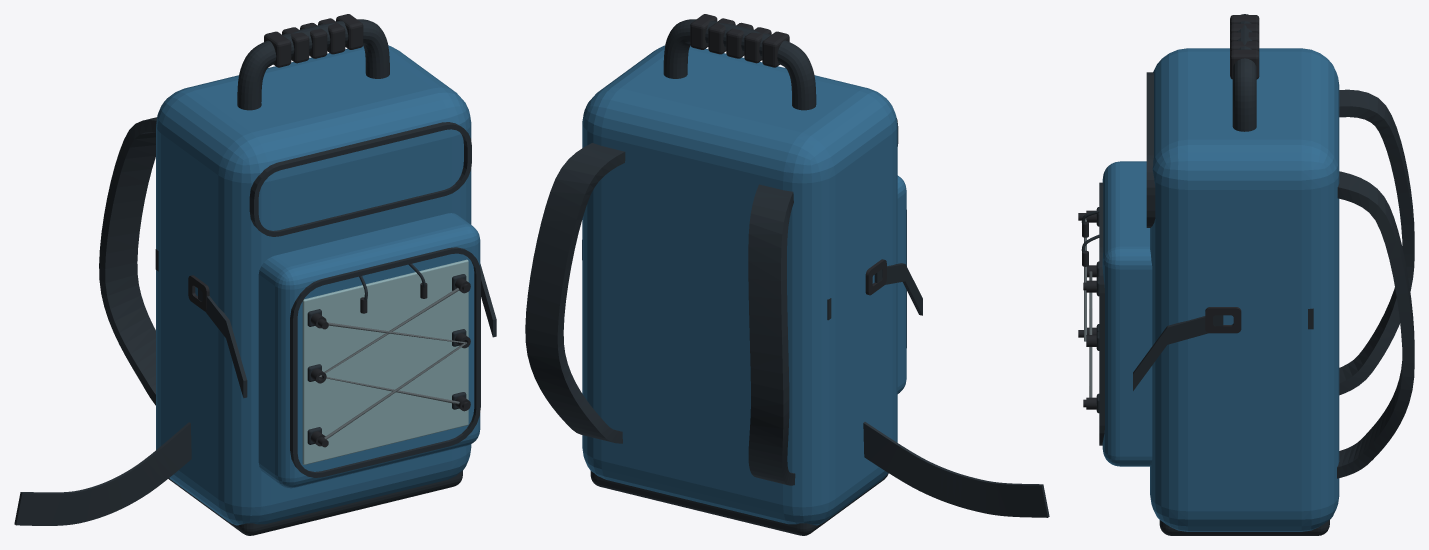
Rendered from full.fbx.
3 renders of one model, left to right at view 1: azimuth 30°, elevation 25°; view 2: azimuth 150°, elevation 25°; view 3: azimuth 270°, elevation 25°, orthographic.
Parts seen in each view (by area): view 1: Rounded main soft bag, Contrasting pouch panel, Bulging front compartment, Generic padded rear shoulder strap -1, Loose lower webbing, Nested front zipper perimeter, Main arched zipper perimeter, Top grab handle, Reinforced bottom panel, Loose compression tail -1, Crisscross elastic cord -1, Crisscross elastic cord 1 (+4 smaller); view 2: Rounded main soft bag, Generic padded rear shoulder strap 1, Generic padded rear shoulder strap -1, Loose lower webbing, Top grab handle, Reinforced bottom panel, Bulging front compartment, Loose compression tail -1, Segmented handle grip 0; view 3: Rounded main soft bag, Bulging front compartment, Generic padded rear shoulder strap 1, Generic padded rear shoulder strap -1, Top grab handle, Loose compression tail 1, Nested front zipper perimeter, Main arched zipper perimeter, Reinforced bottom panel, Side release buckle 1, Segmented handle grip 4, Crisscross elastic cord 1.
Boxes of the visible parts, box(x1,y1,x2,y2) form: Rounded main soft bag: box(156, 45, 471, 525); Contrasting pouch panel: box(302, 259, 468, 464); Bulging front compartment: box(258, 213, 480, 488); Generic padded rear shoulder strap -1: box(99, 117, 156, 405); Loose lower webbing: box(14, 422, 191, 525); Nested front zipper perimeter: box(290, 247, 480, 477); Main arched zipper perimeter: box(249, 122, 471, 236); Top grab handle: box(237, 19, 389, 110); Reinforced bottom panel: box(168, 471, 462, 535); Loose compression tail -1: box(198, 288, 247, 398); Crisscross elastic cord -1: box(324, 322, 466, 439); Crisscross elastic cord 1: box(319, 288, 459, 404); Rounded main soft bag: box(582, 45, 897, 525); Generic padded rear shoulder strap 1: box(525, 143, 625, 443); Generic padded rear shoulder strap -1: box(748, 184, 795, 485); Loose lower webbing: box(863, 422, 1049, 517); Top grab handle: box(663, 19, 816, 110); Reinforced bottom panel: box(590, 471, 888, 535); Bulging front compartment: box(897, 175, 906, 393); Loose compression tail -1: box(874, 263, 922, 315); Segmented handle grip 0: box(762, 31, 789, 67); Rounded main soft bag: box(1150, 48, 1339, 531); Bulging front compartment: box(1102, 161, 1152, 466); Generic padded rear shoulder strap 1: box(1337, 171, 1414, 478); Generic padded rear shoulder strap -1: box(1339, 89, 1414, 395); Top grab handle: box(1232, 14, 1256, 131); Loose compression tail 1: box(1133, 315, 1223, 390); Nested front zipper perimeter: box(1099, 182, 1104, 445); Main arched zipper perimeter: box(1146, 72, 1155, 227); Reinforced bottom panel: box(1159, 520, 1329, 535); Side release buckle 1: box(1205, 307, 1241, 333); Segmented handle grip 4: box(1230, 49, 1259, 79); Crisscross elastic cord 1: box(1089, 271, 1092, 397).
Bounding box in the file's own units: 57.57 × 57.98 × 39.1.
